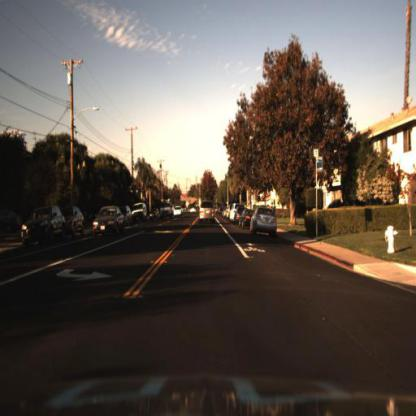car: (21, 206, 65, 251), (88, 203, 126, 240), (64, 194, 88, 242), (249, 205, 280, 242), (92, 205, 125, 238), (196, 193, 220, 224), (65, 206, 86, 237), (158, 195, 177, 223), (132, 203, 150, 226), (133, 201, 149, 224), (240, 207, 254, 233), (171, 201, 185, 223), (237, 210, 252, 228), (124, 205, 134, 229), (234, 209, 242, 226)
